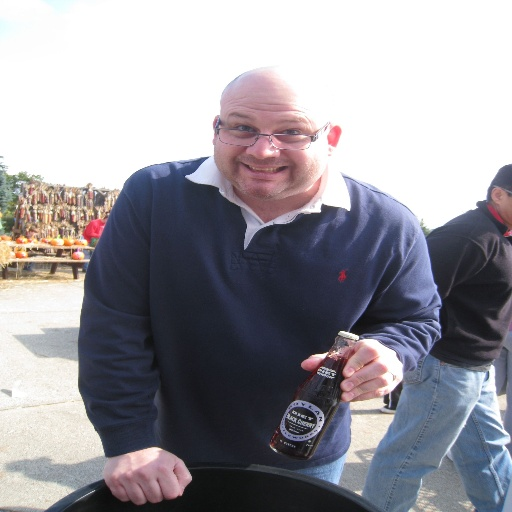hand: (298, 338, 405, 401), (125, 451, 193, 510)
